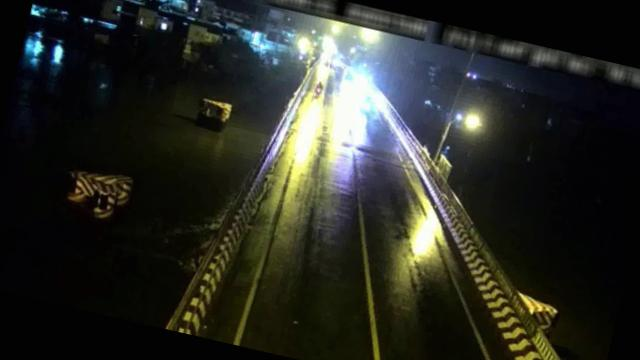Bike: (315, 80, 326, 99)
